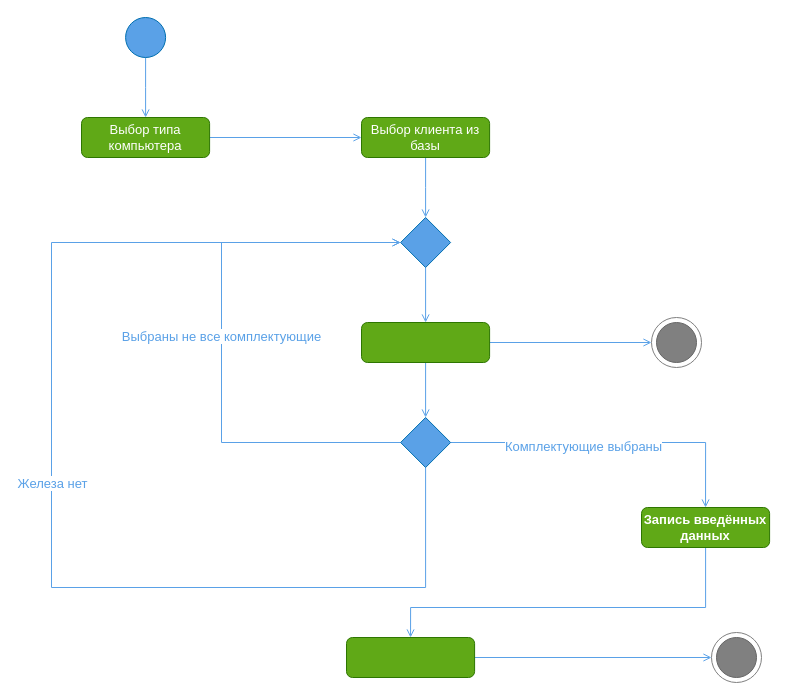
The diagram is 788 pixels wide and 700 high, and some of its shapes have lost their labels. Here are the shapes that lost their labels. From the top down, the centre of each, then its label:
the point at 425,342: Выбор комплектующих
the point at 410,657: Печать счёта для оплаты
